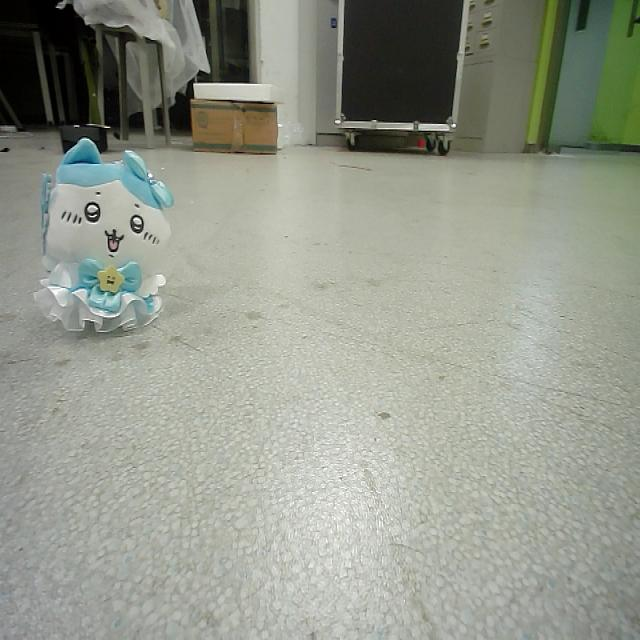xiaoba: (35, 133, 176, 338)
